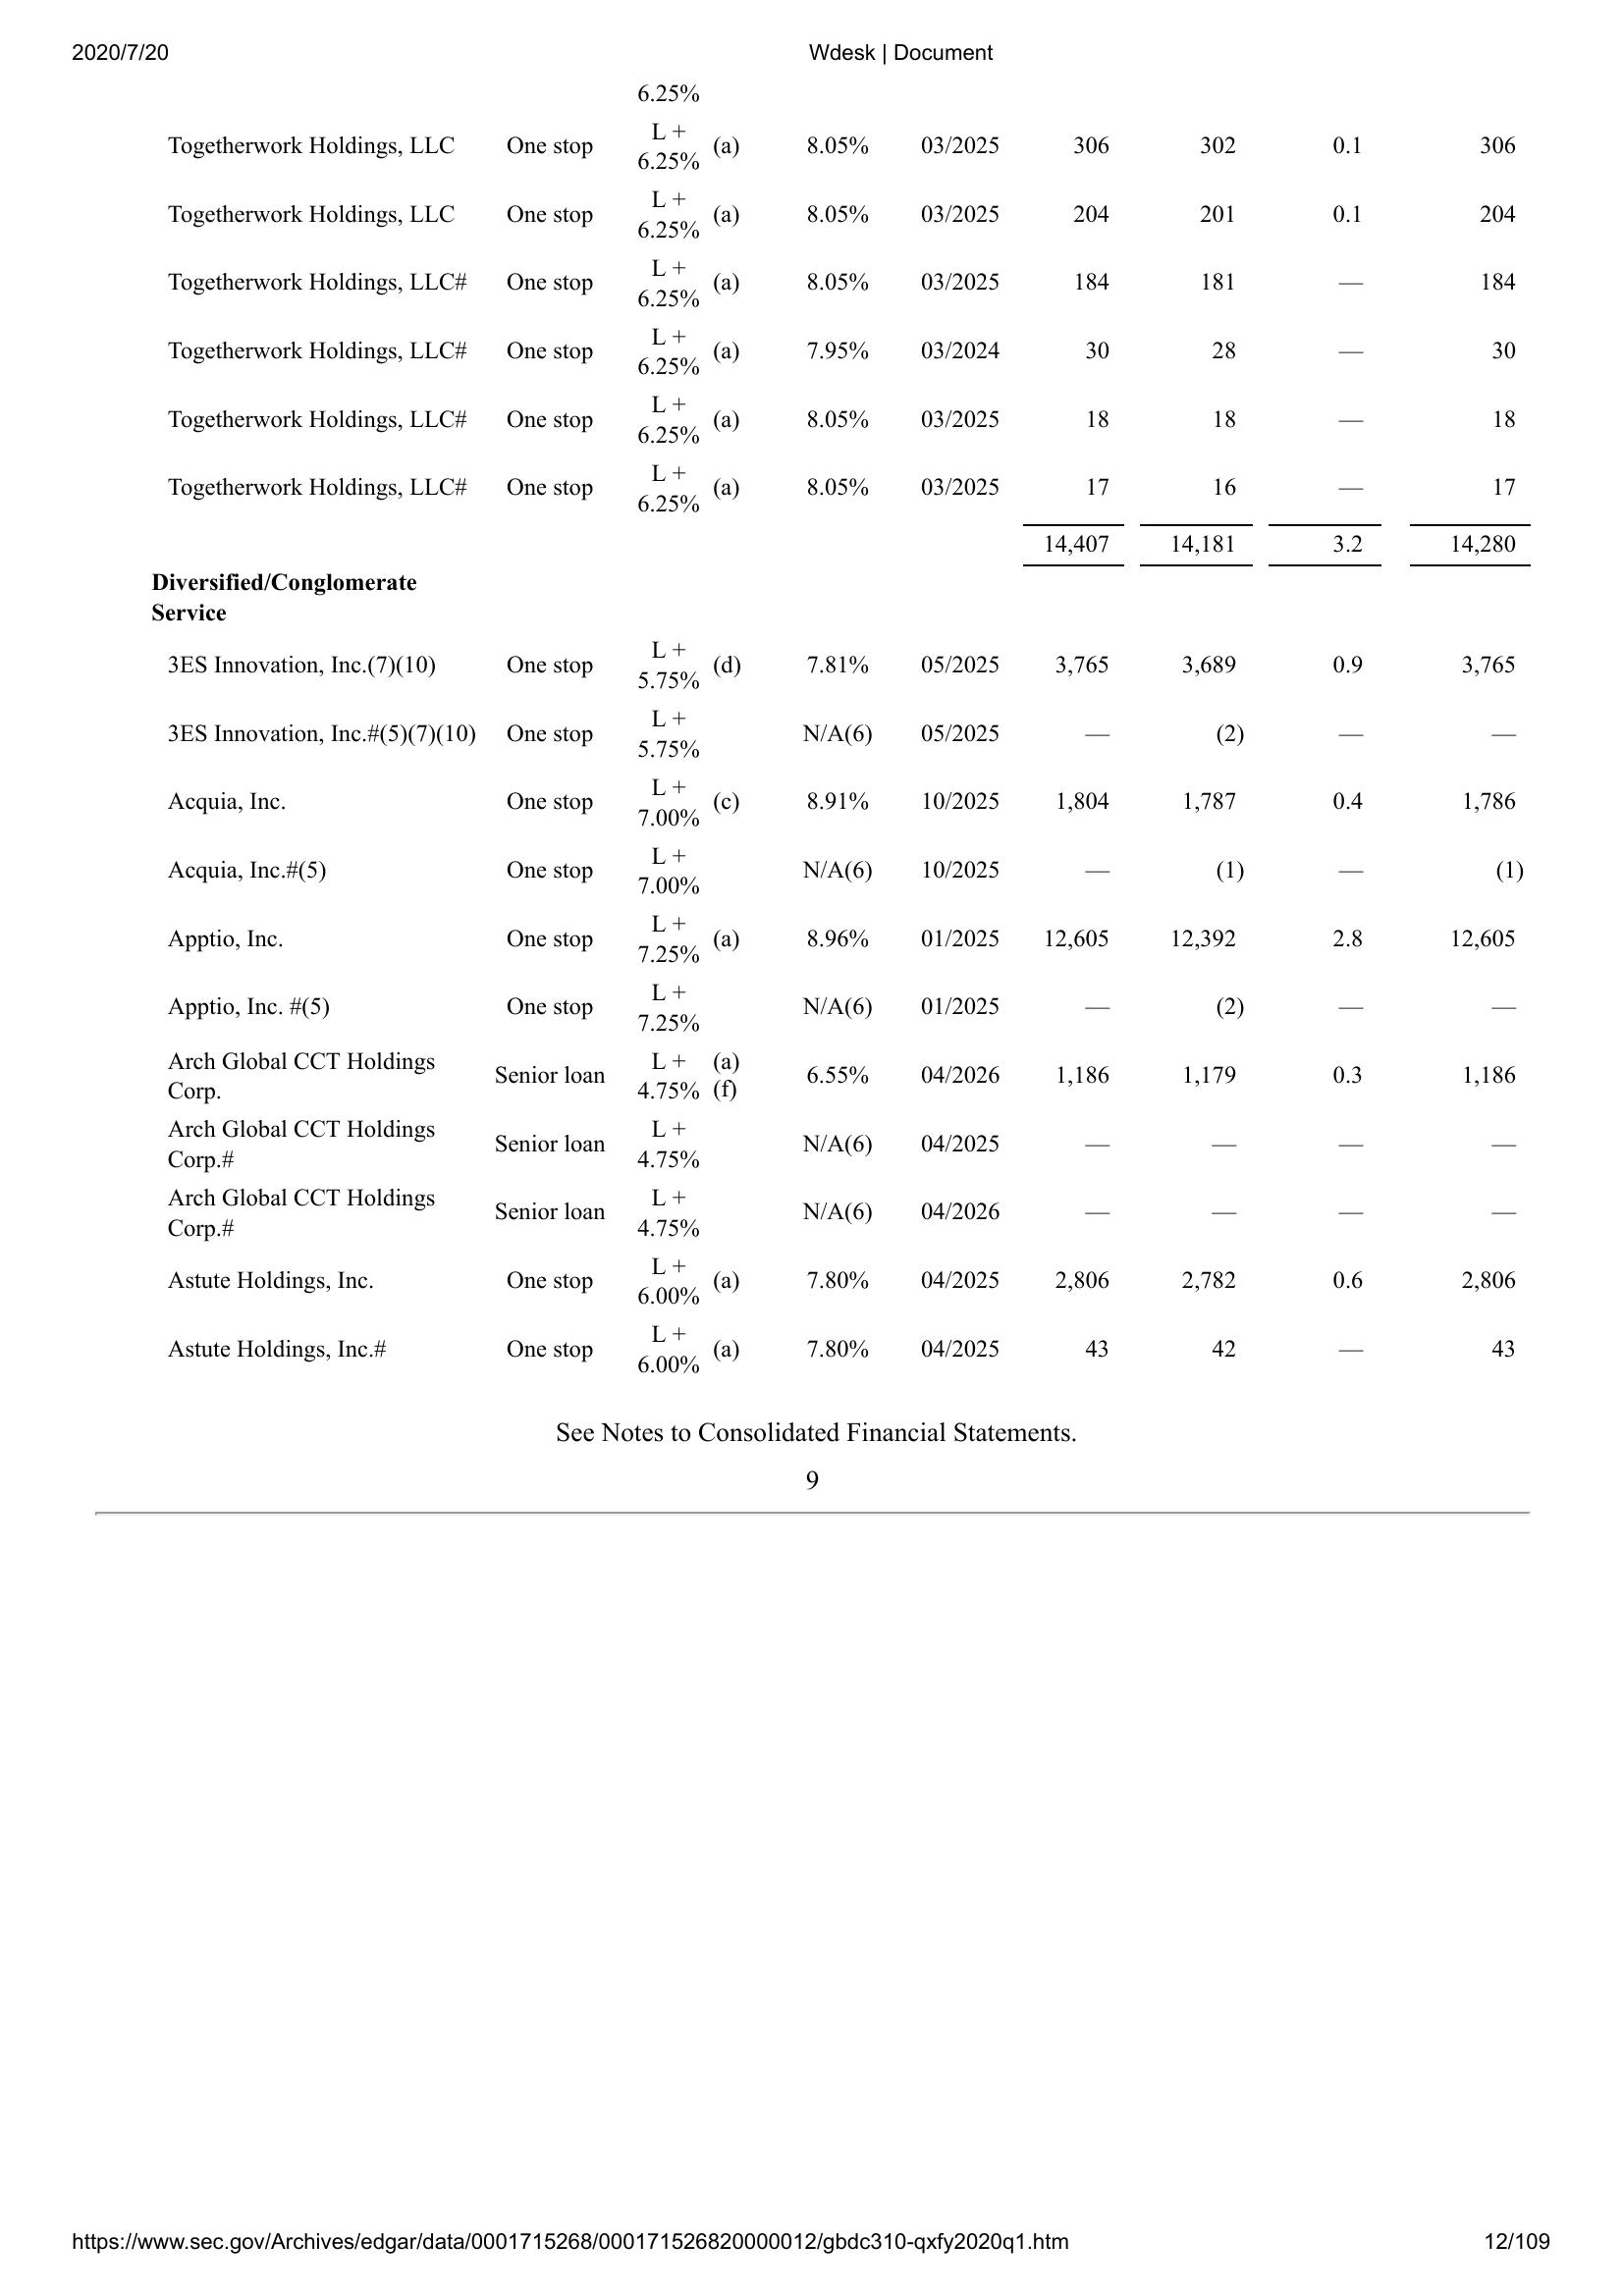table: (141, 104, 1526, 1388)
